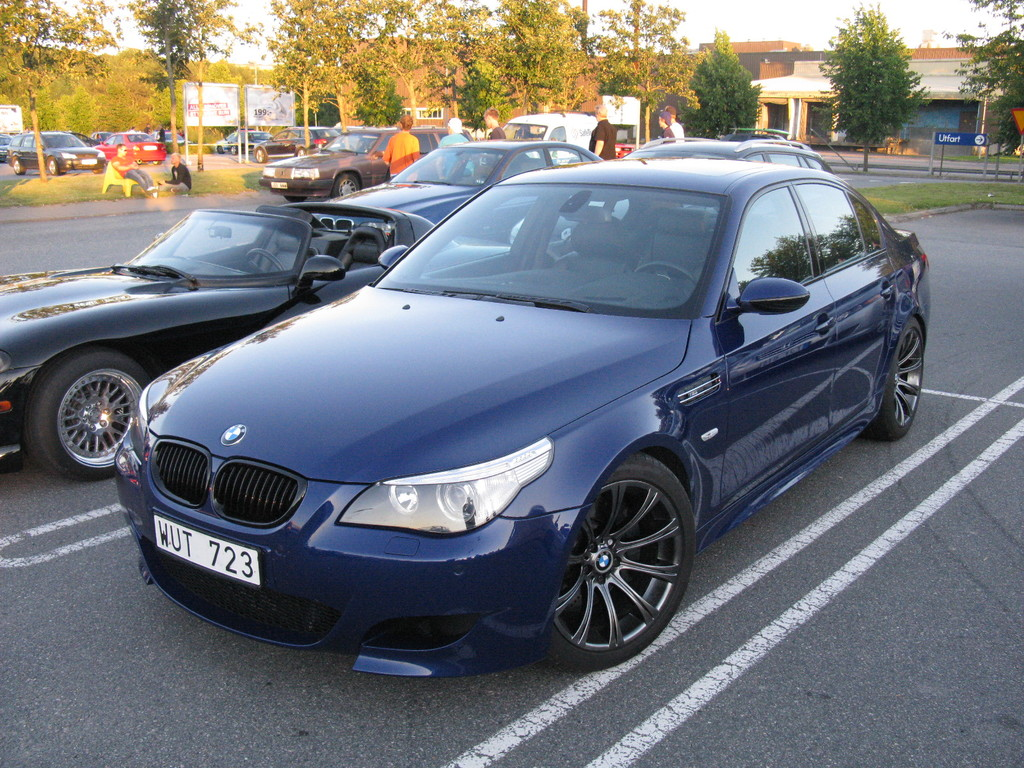Car: (0, 124, 929, 678), (0, 130, 191, 177)
